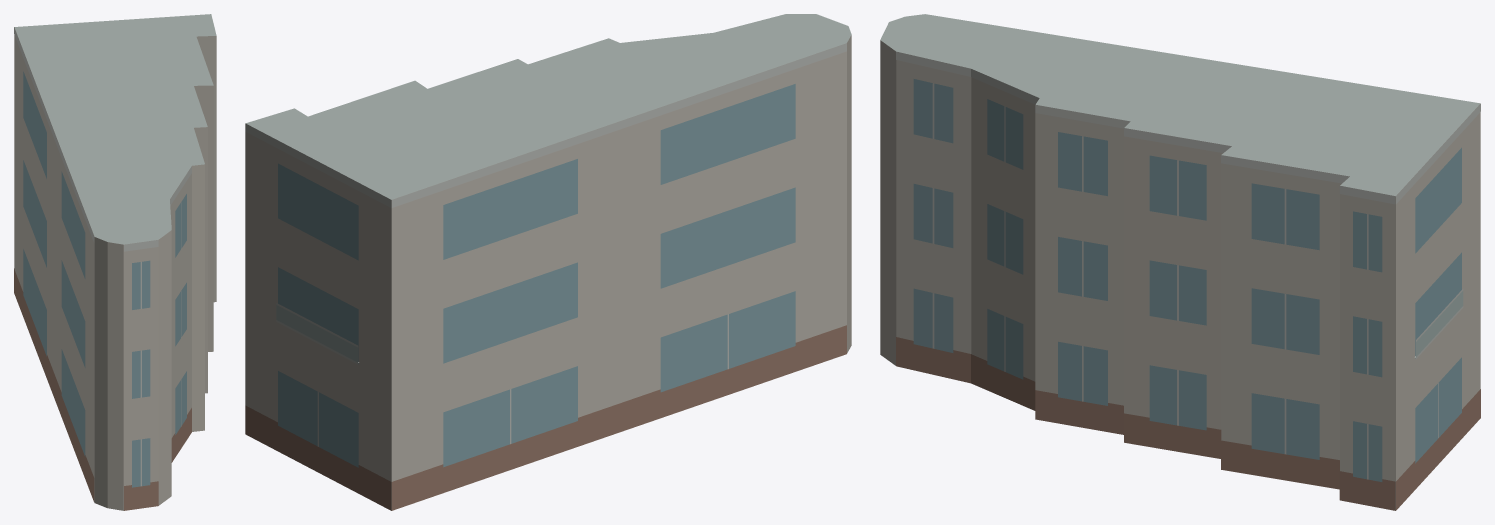
The model's file is survey-upis-32640653.glb.
3 renders of one model, left to right at view 1: azimuth 30°, elevation 25°; view 2: azimuth 150°, elevation 25°; view 3: azimuth 270°, elevation 25°, orthographic. The views are drawn at different scales.
Visible parts, largest first — view 1: survey-upis-32640653.tmp; view 2: survey-upis-32640653.tmp; view 3: survey-upis-32640653.tmp.
Boxes of the visible parts, box(x1,y1,x2,y2) form: survey-upis-32640653.tmp: box(14, 14, 216, 510); survey-upis-32640653.tmp: box(245, 14, 851, 510); survey-upis-32640653.tmp: box(880, 14, 1480, 510).
Size of the model in its own units: 11.37 by 9.15 by 15.84.
